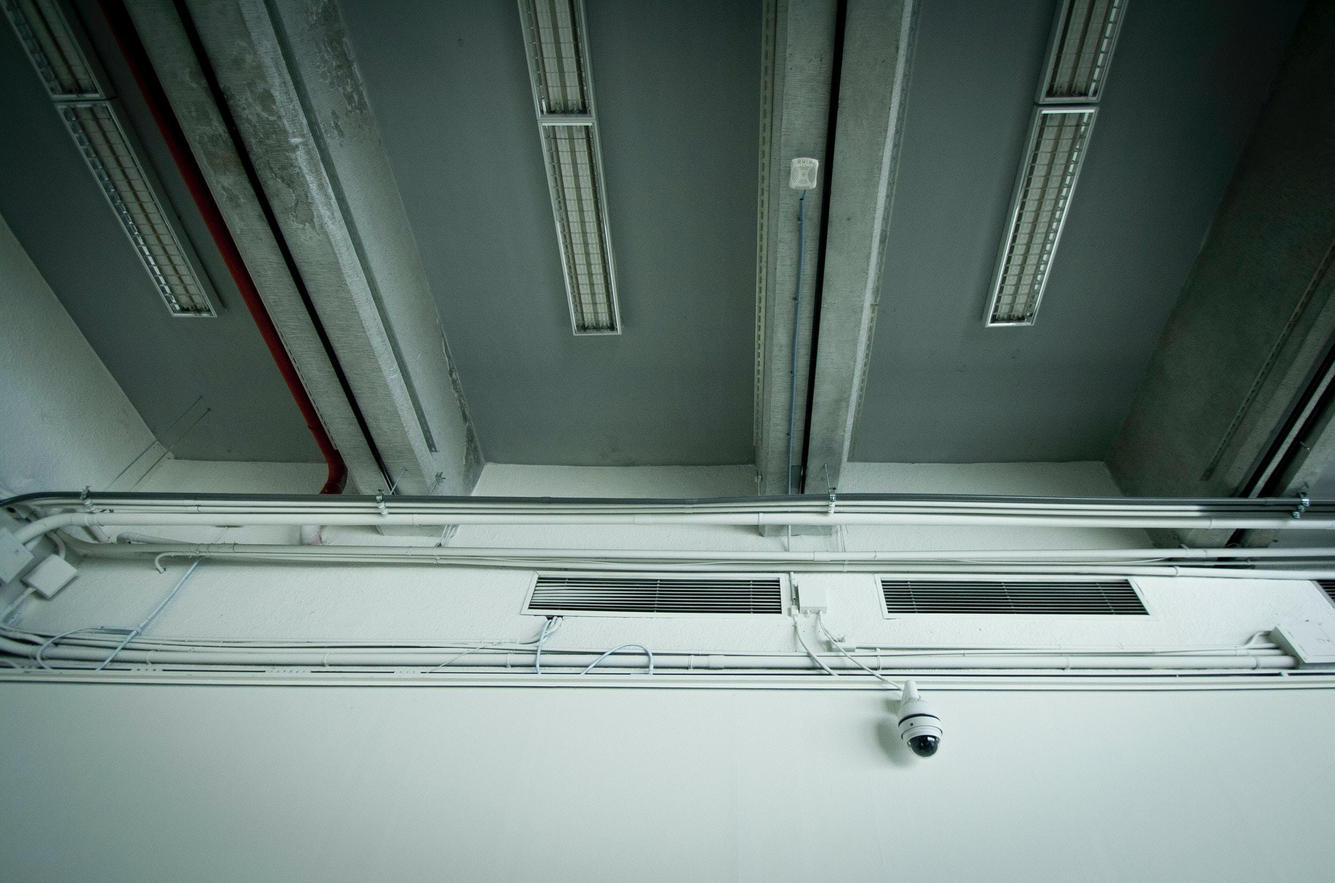CCTV: (899, 679, 944, 759)
